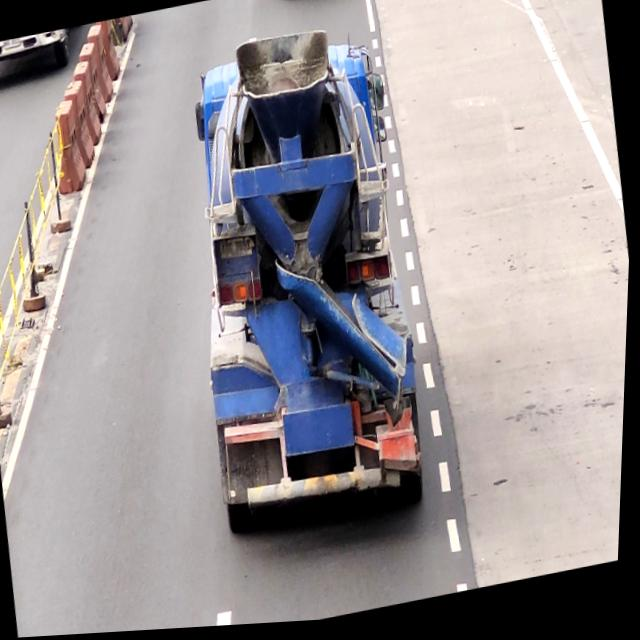Truck: (178, 21, 447, 537)
